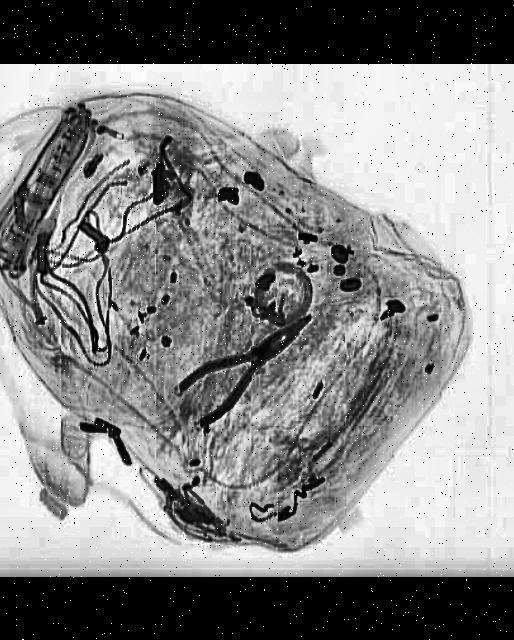Pliers: (170, 297, 332, 428)
